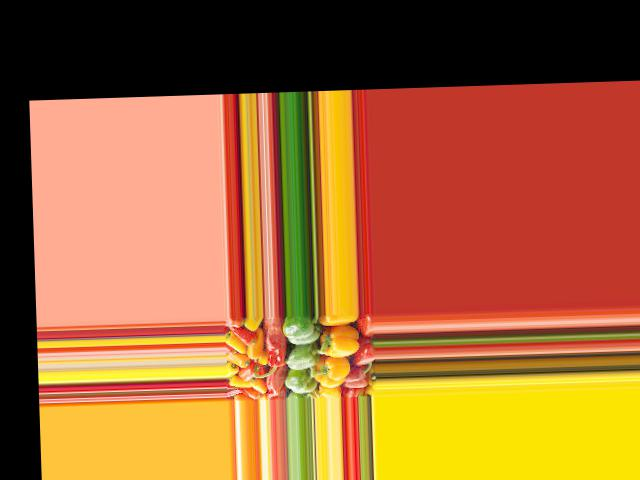bell_pepper: (228, 324, 256, 347)
